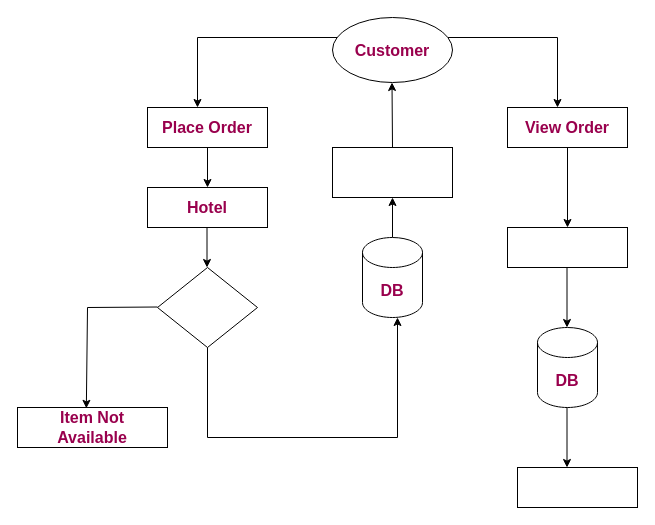
This 655x525 diagram has some shape labels left out. The shapes that lost their labels are listed below. From the top down, each one's box as (x1, y1, x2, y2) in pixels, then its label:
(332, 146, 452, 198): Make Order
(506, 226, 628, 268): Make payment
(156, 266, 258, 348): Verify
(516, 466, 638, 508): Order accepted
